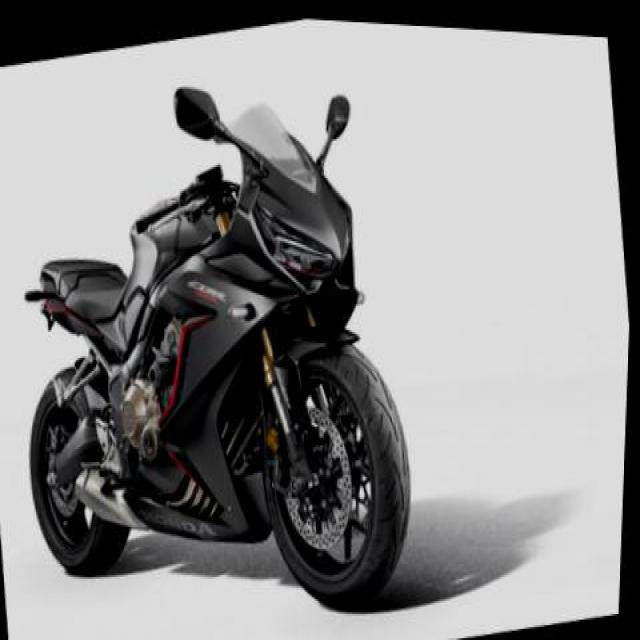CBR650R: (0, 59, 444, 638)
